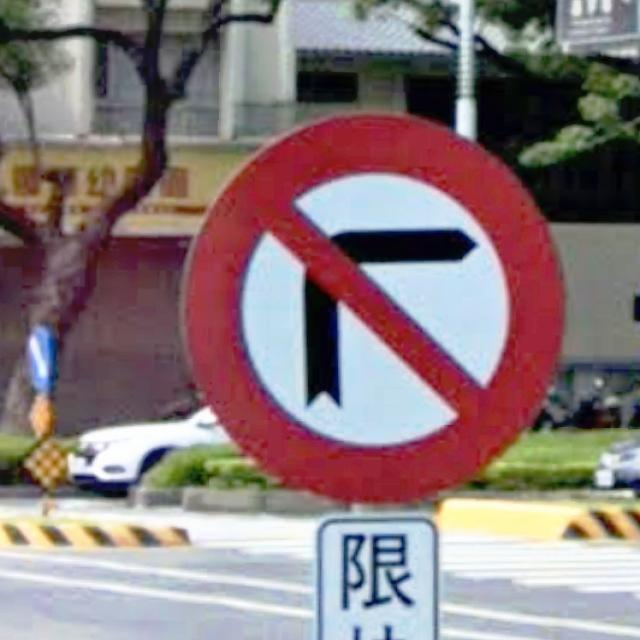noturnright: (180, 112, 567, 504)
